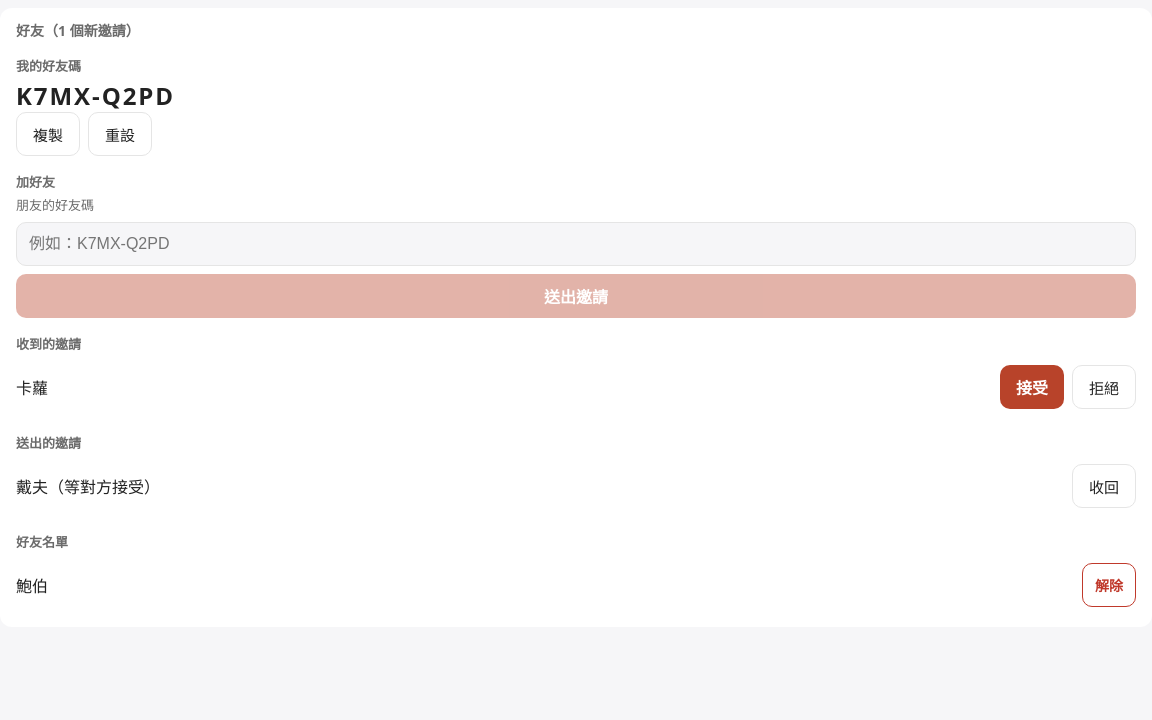
Scenario: 好友卡片 › 對方先邀過我：直接成為好友
Expected: the text "K7MX-Q2PD" is shown, [16,79,175,112]
Type "ABCDEFGH" into the field labelled "朋友的好友碼".
click(576, 244); type("ABCDEFGH")  # box [16,222,1136,266]
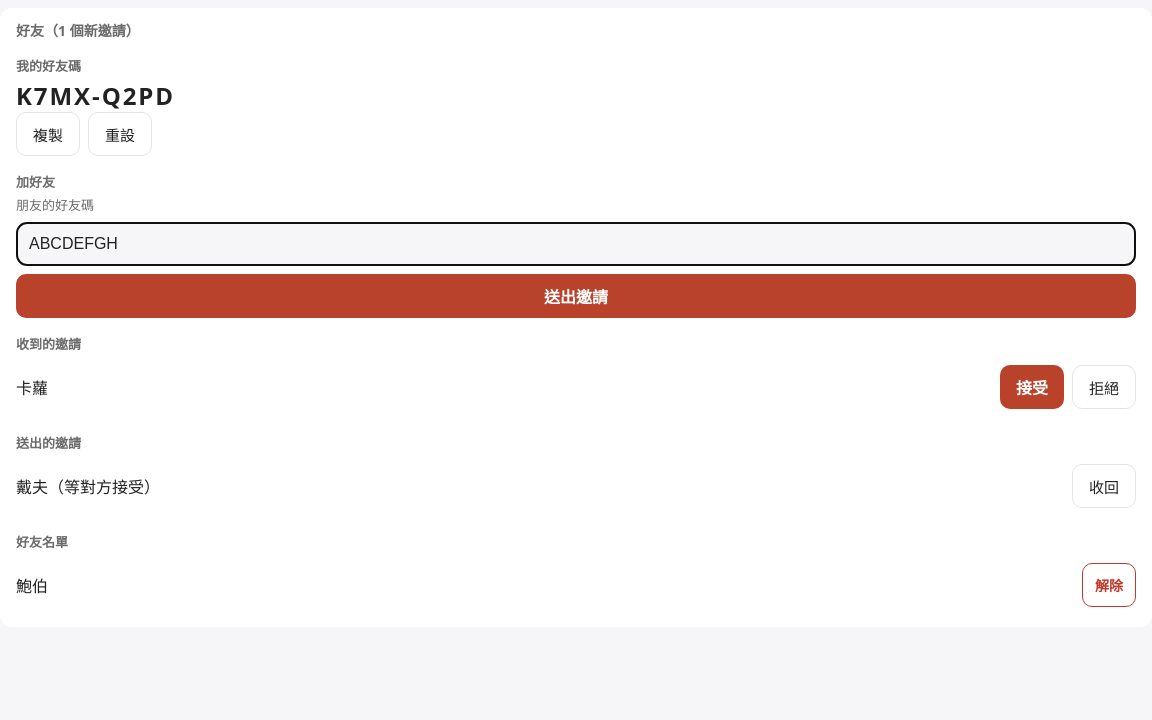
Click the button "送出邀請".
click(576, 296)  # box [16,274,1136,318]
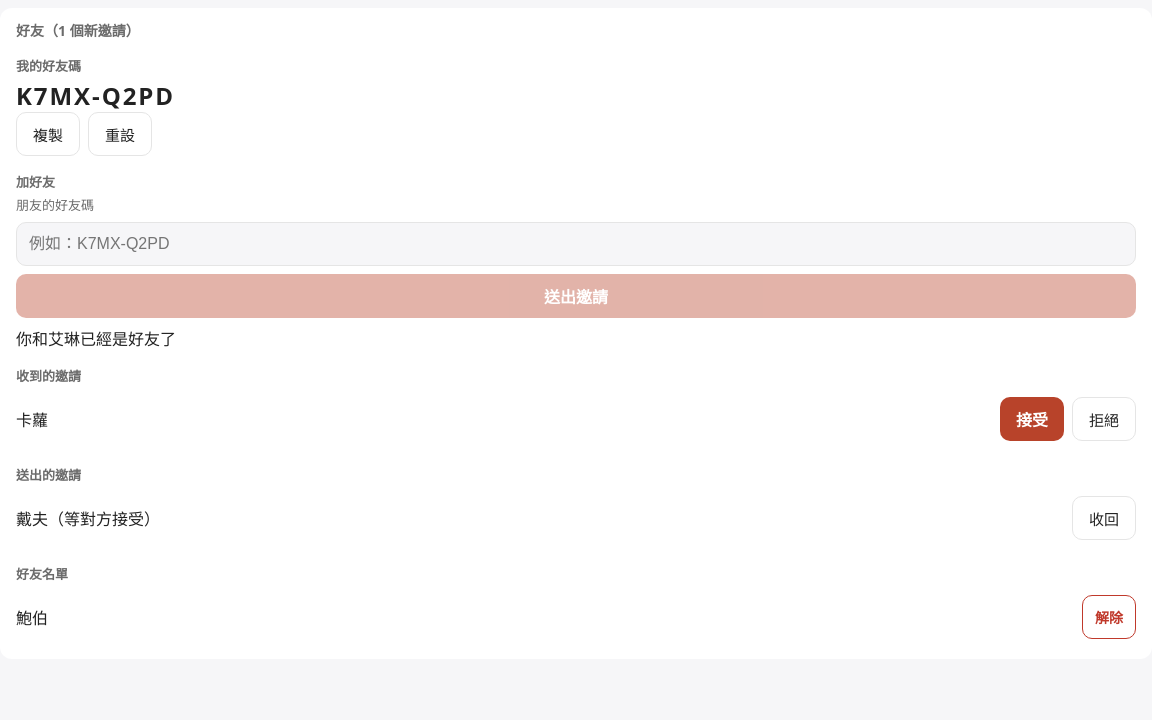
Now the text "你和艾琳已經是好友了" is shown, box [16,328,176,350]
